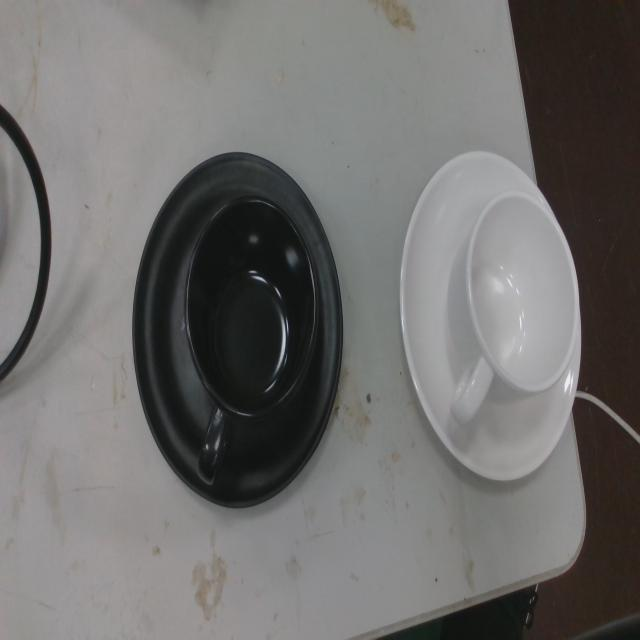black: (130, 142, 346, 515)
white: (398, 144, 584, 488)
